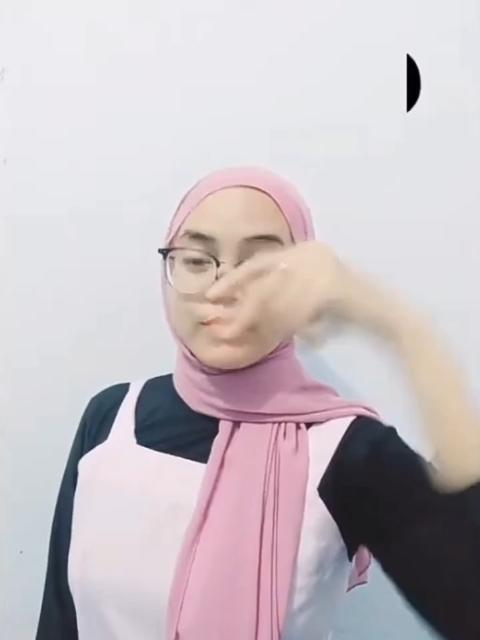P: (203, 242, 353, 358)
